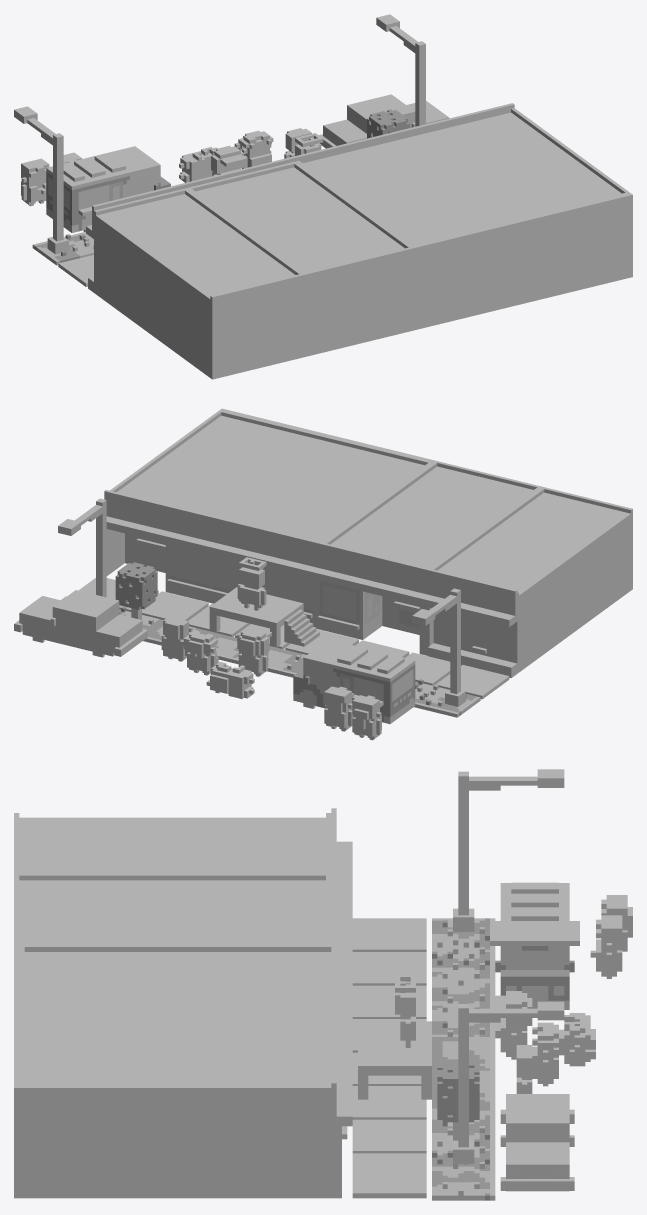
The model's file is scene_store7.obj.
The picture shows the model from 3 angles, top to bottom: view 1: azimuth 30°, elevation 25°; view 2: azimuth 150°, elevation 25°; view 3: azimuth 270°, elevation 25°; orthographic projection. The views are drawn at different scales.
Bounding box in the file's own units: 124 × 34 × 117.
